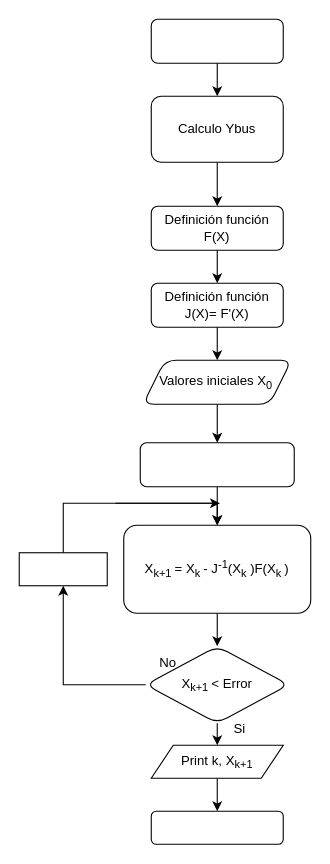
Some shapes in this 330 by 864 pixel diagram are drawn without their labels. The shapes that lost their labels are listed below. From the top down, each one's centre as x and y in pixels, then its label:
At [216,40]: "Inicio".
At [216,464]: "inicio de iteración k=0".
At [62,569]: "k=k+1".
At [216,827]: "Fin".
